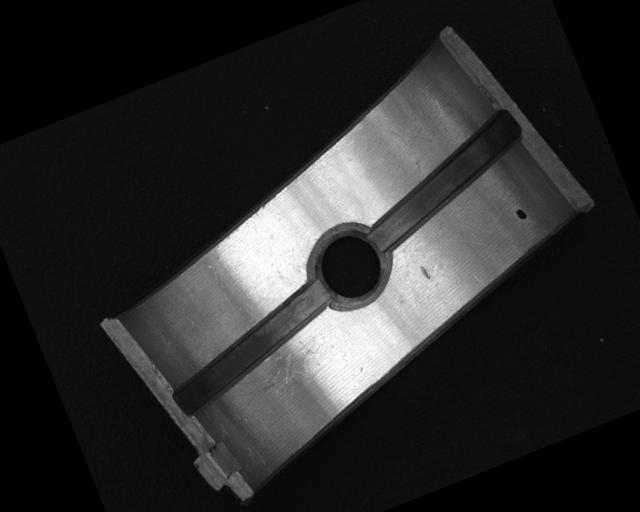blot: (513, 205, 529, 223)
bruise: (418, 264, 431, 281)
gap: (345, 108, 544, 254), (151, 278, 351, 420)
hole: (301, 216, 401, 315)
scratch: (227, 331, 338, 416)
